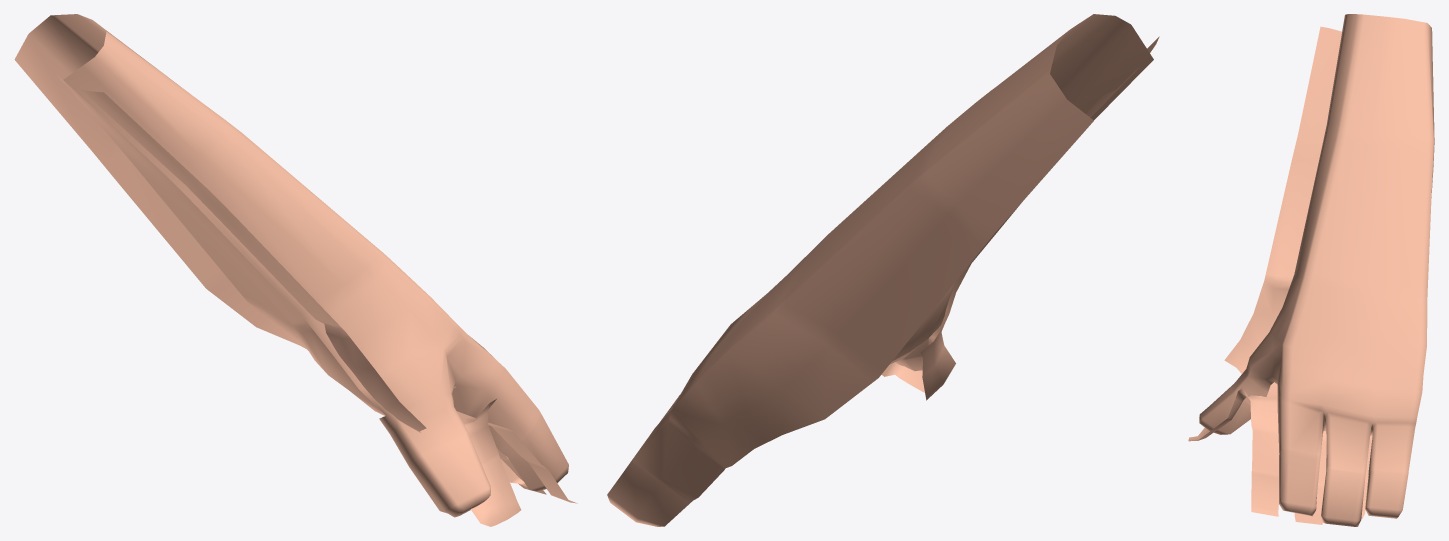
The model's file is Brazo_izquierdo.obj.
3 views of the same model, side by side, from view 1: azimuth 30°, elevation 25°; view 2: azimuth 150°, elevation 25°; view 3: azimuth 270°, elevation 25° (orthographic). The views are drawn at different scales.
Visible parts, largest first — view 1: Brazoizquierdo; view 2: Brazoizquierdo; view 3: Brazoizquierdo.
Boxes of the visible parts, <box> form: Brazoizquierdo: <box>14,14,577,526</box>; Brazoizquierdo: <box>607,14,1159,526</box>; Brazoizquierdo: <box>1188,14,1434,526</box>.
Size of the model in its own units: 3.67 by 3.99 by 2.36.
